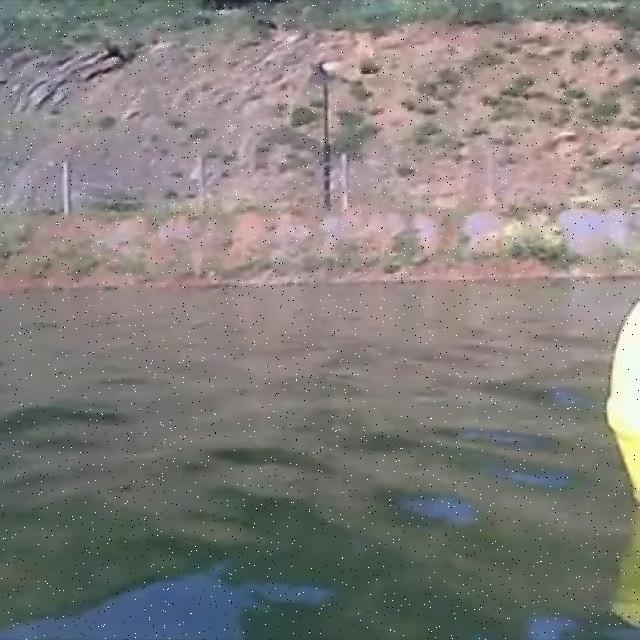buoy: (608, 295, 638, 507)
